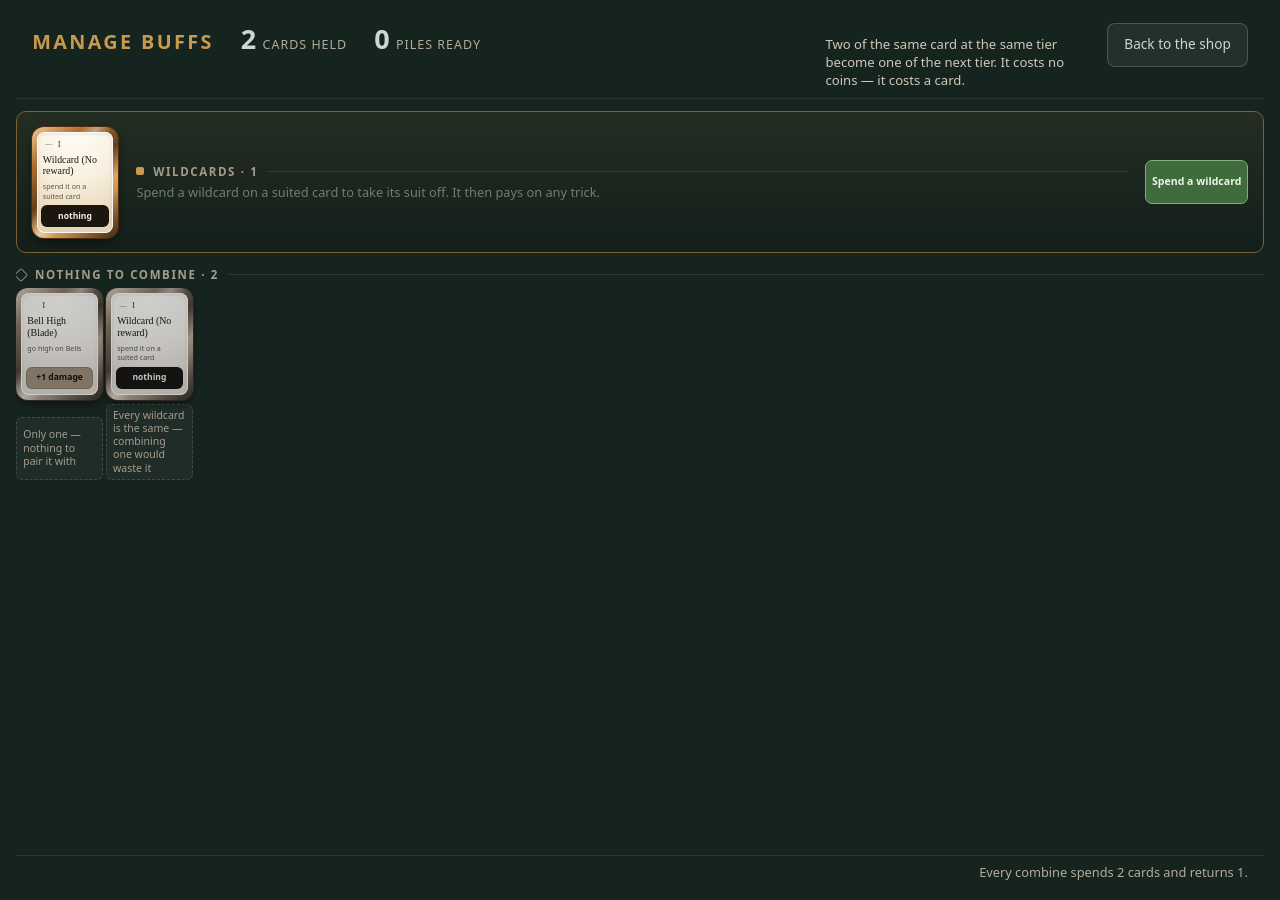
the wildcard band (DLR-162) › commits the spend, converts the card, and announces it through the ledger
Click the button "Spend a wildcard".
click(1197, 182)  # box [1145,160,1248,204]
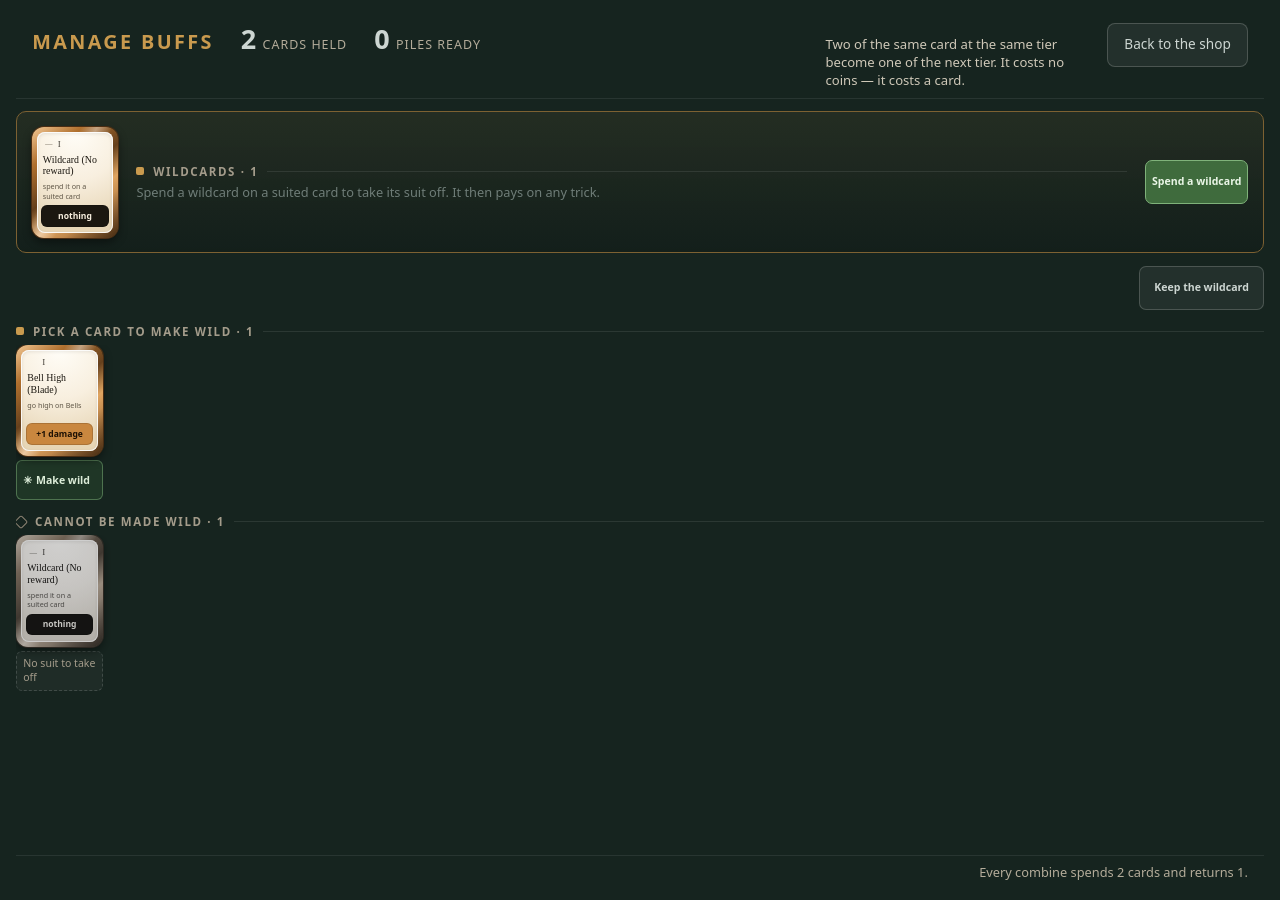
Click the button "I Bell High (Blade) go high on Bells +1 damage ✳ Make wild".
click(56, 422)  # box [16,345,96,500]
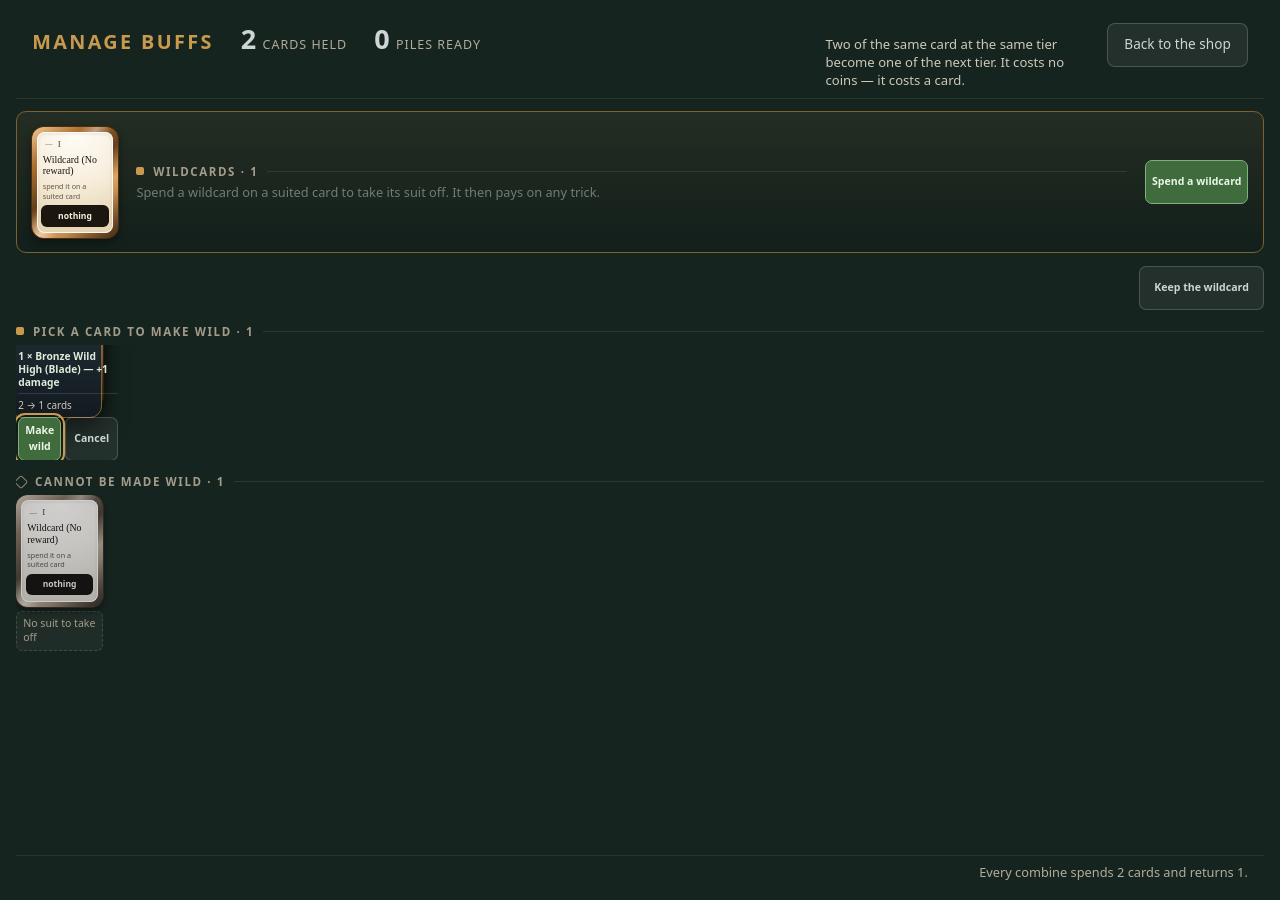
Click the button "Make wild".
click(40, 439)  # box [18,417,61,461]
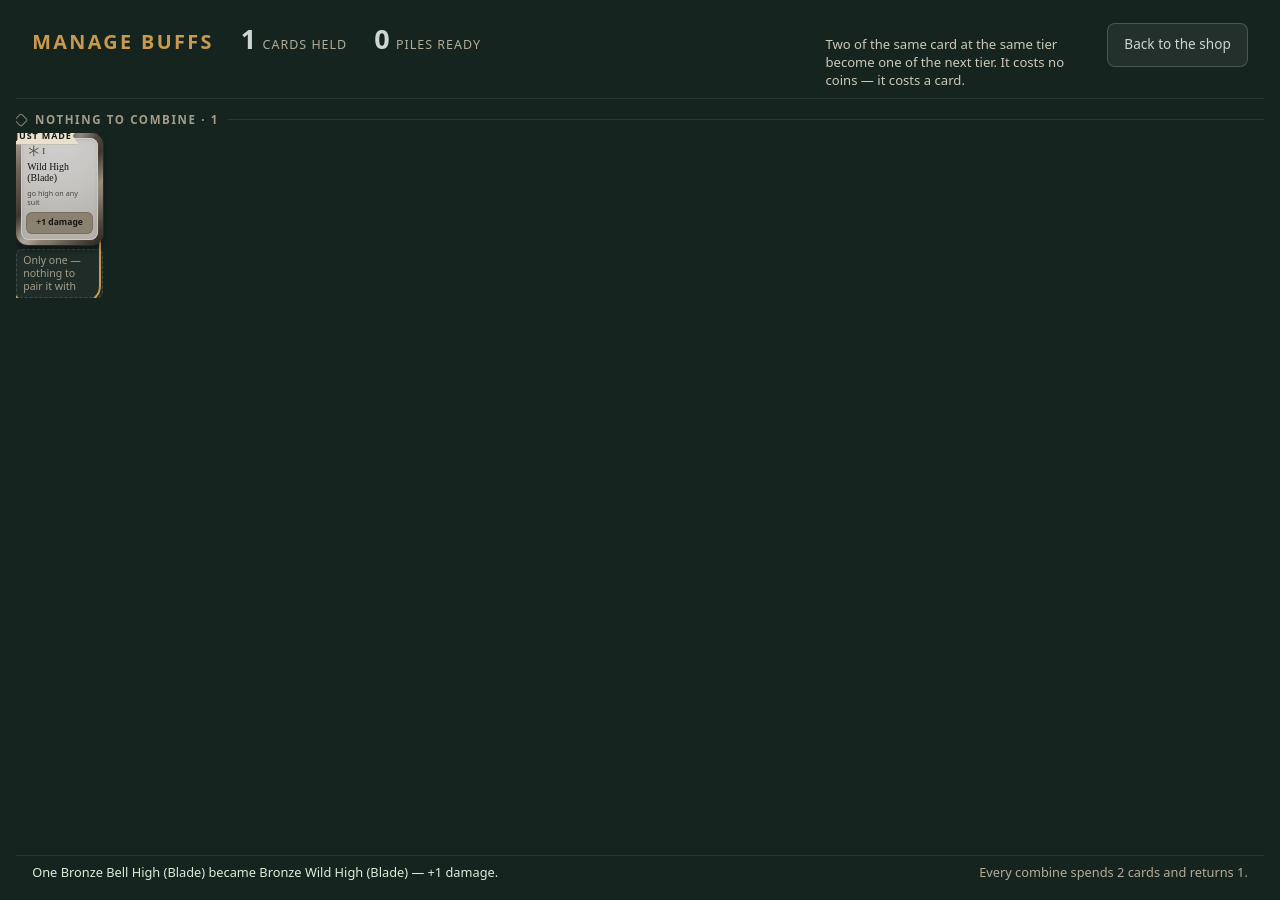
Expected: the text "Spend a wildcard" is gone
Expected: the message shows "Bronze Wild High (Blade)", [32,863,498,881]
